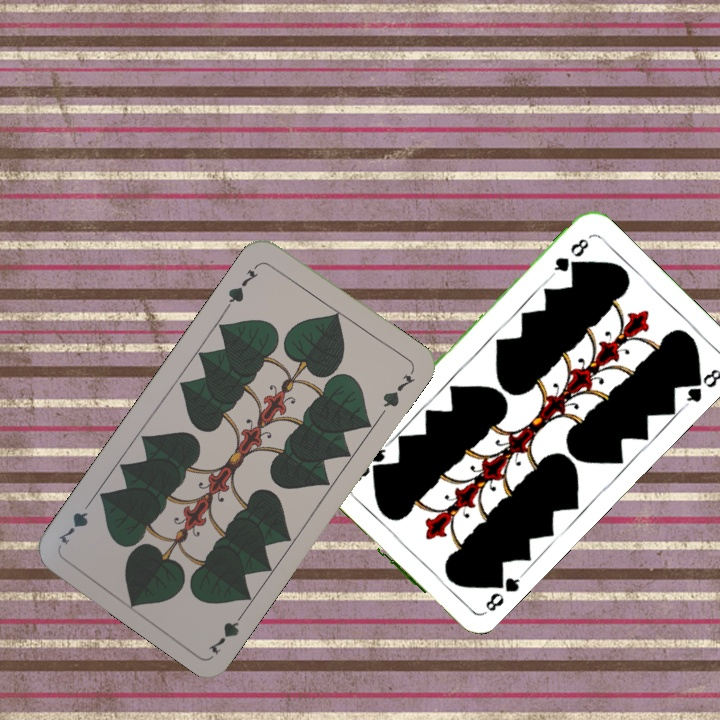G7: (204, 605, 249, 657), (222, 259, 263, 310)
G8: (478, 570, 524, 618), (547, 234, 592, 279)
